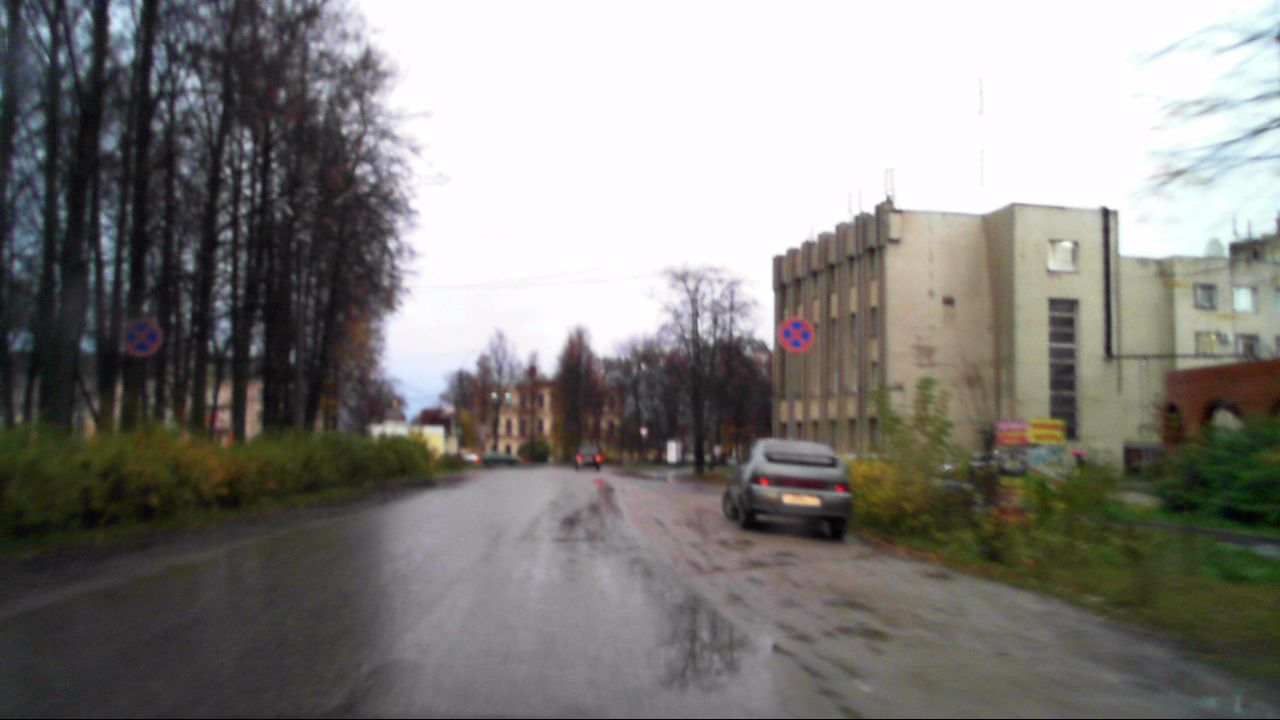No Parking: (777, 317, 813, 353)
